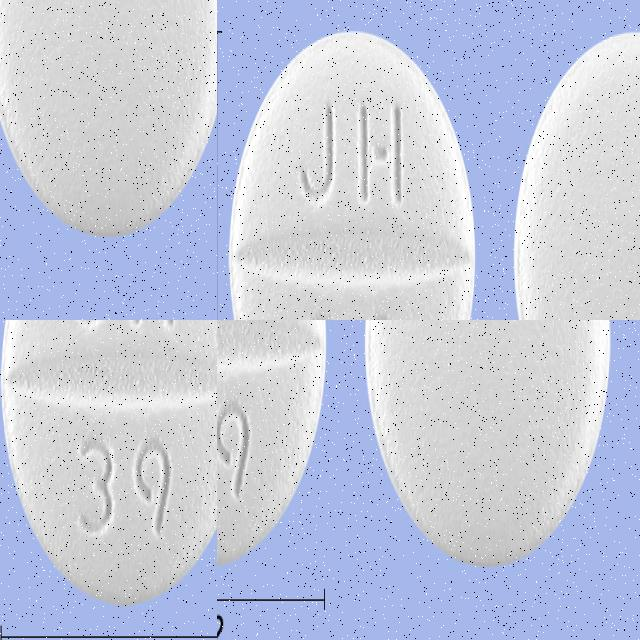Ciflox - 250mg: (360, 320, 616, 572), (217, 320, 330, 572)
Ciprotwo: (0, 0, 217, 248)
Clafacin -500mg: (495, 16, 640, 292), (225, 209, 517, 320)
Claricin - 500mg: (0, 342, 217, 609)
